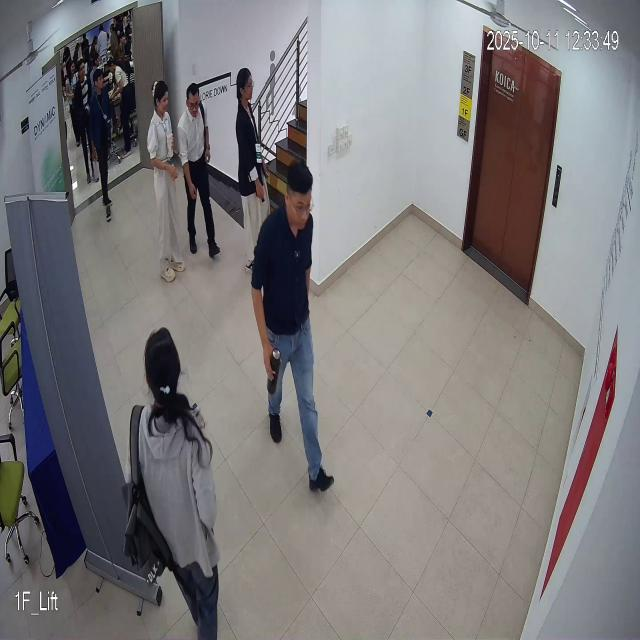face: (282, 160, 312, 244), (153, 73, 171, 120), (186, 81, 201, 117)
